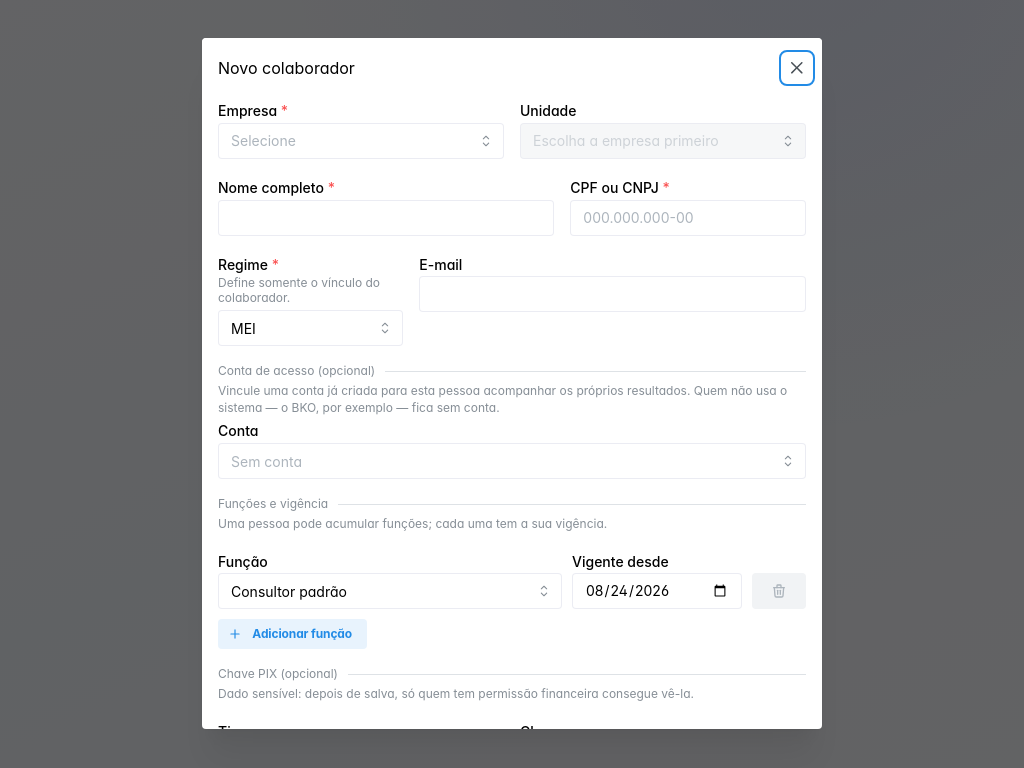
Scenario: CollaboratorFormModal › mascara o documento e escolhe o formato pelo tamanho
Type "52998224725" into the field labelled "CPF ou CNPJ *". click: [688, 218]
box: [570, 200, 806, 236]
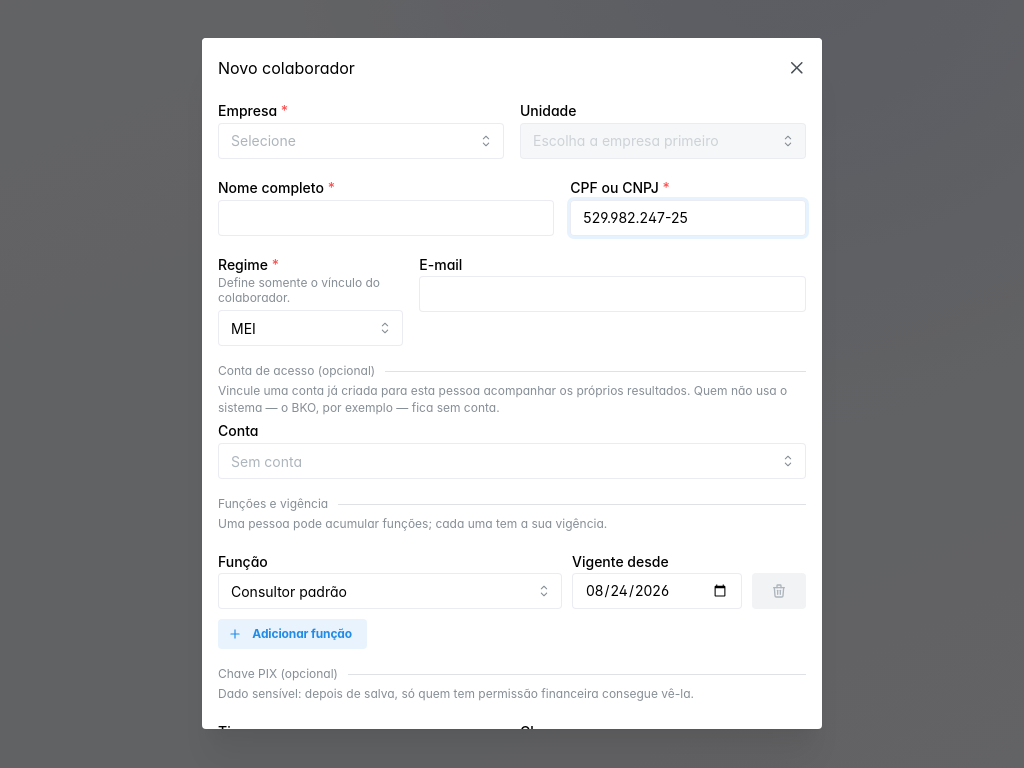
Result: the field labelled "CPF ou CNPJ *" holds "529.982.247-25"
Replace the text in the field labelled "CPF ou CNPJ *" with "11222333000181". click: [688, 218]
box: [570, 200, 806, 236]
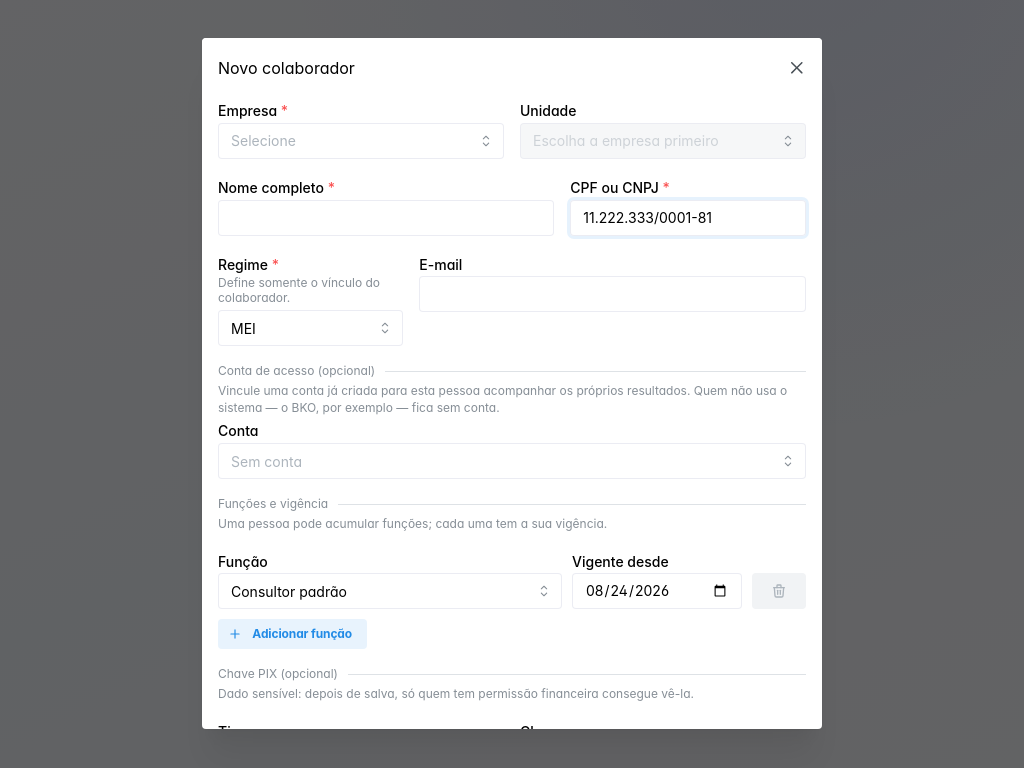
Result: the field labelled "CPF ou CNPJ *" holds "11.222.333/0001-81" at [570, 200, 806, 236]
